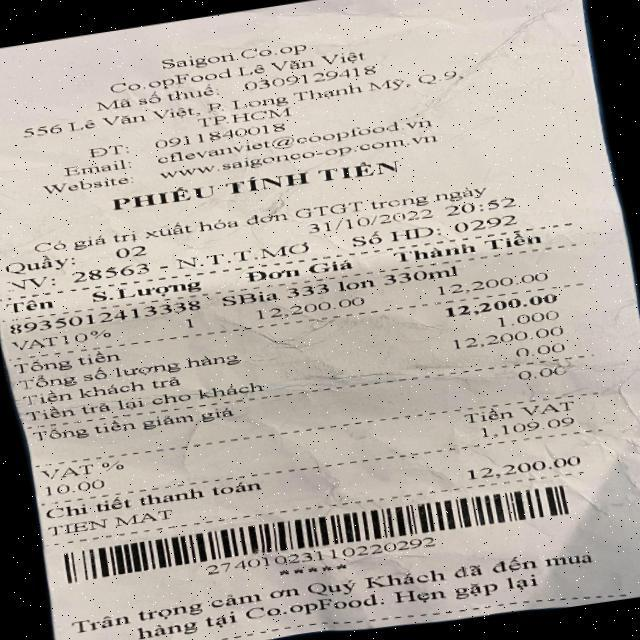Date: (289, 202, 438, 241)
Store_Name: (130, 29, 346, 78)
amount_number: (434, 288, 572, 324)
label_total: (7, 346, 126, 380)
